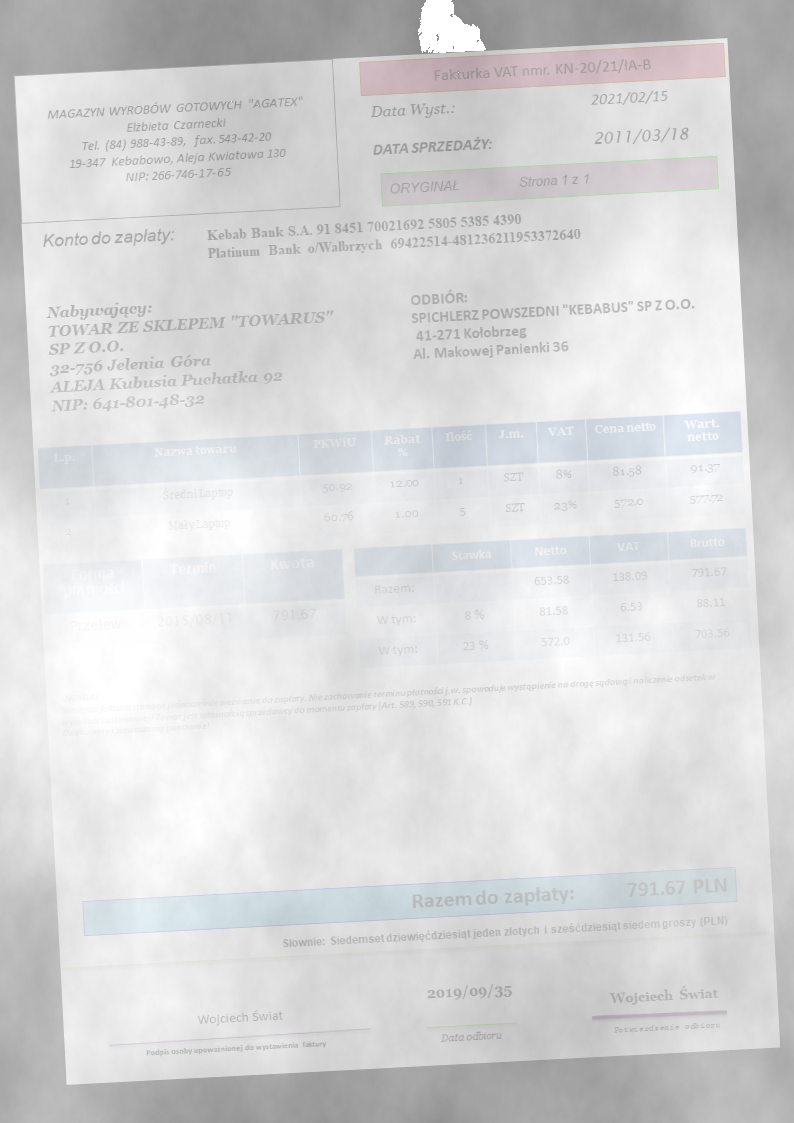Table: (35, 407, 747, 553), (350, 527, 754, 671), (41, 547, 348, 653)
TextBox: (58, 657, 719, 740), (43, 289, 339, 419), (406, 275, 703, 363), (42, 93, 312, 189), (202, 204, 583, 265), (277, 910, 731, 952), (405, 871, 730, 914), (428, 54, 655, 84), (387, 168, 596, 198), (142, 1037, 331, 1059), (36, 223, 178, 251), (369, 133, 493, 161), (602, 981, 723, 1009), (590, 121, 692, 148), (422, 979, 516, 1004), (367, 97, 460, 122), (192, 1004, 285, 1029), (589, 83, 670, 111), (610, 1017, 723, 1037), (438, 1025, 504, 1046)
